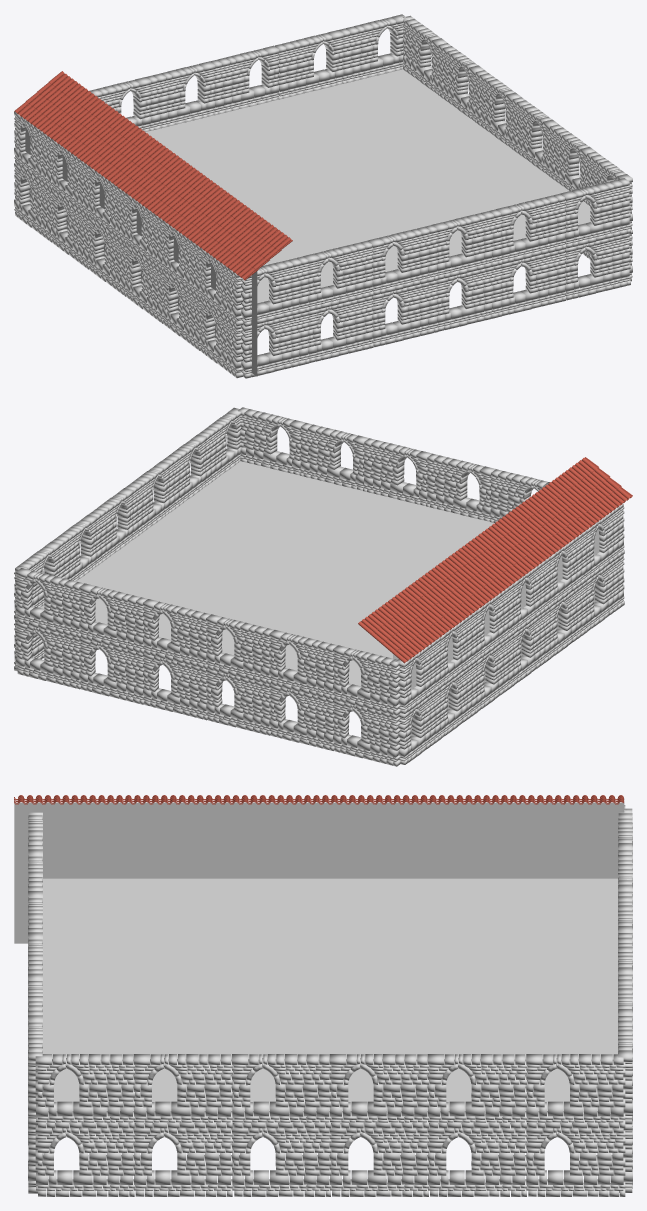
File: Classroom_BuildingAcross.fbx
The picture shows the model from 3 angles, top to bottom: view 1: azimuth 30°, elevation 25°; view 2: azimuth 150°, elevation 25°; view 3: azimuth 270°, elevation 25°; orthographic projection. The views are drawn at different scales.
Visible parts, largest first — view 1: Castle.Floor.Mid, Castle.Wall.001, Castle.Wall, Castle.Roof, Castle.Wall.003, Castle.Wall.002, Castle.Windows, Castle.BlackOut; view 2: Castle.Floor.Mid, Castle.Wall.003, Castle.Wall, Castle.Roof, Castle.Wall.001, Castle.Wall.002, Castle.Windows; view 3: Castle.Floor.Mid, Castle.Wall.002, Castle.BlackOut, Castle.Wall.003, Castle.Wall.001, Castle.Roof.
Boxes of the visible parts, x1,y1,x2,y2 form: Castle.Floor.Mid: (145,69,590,303); Castle.Wall.001: (241,178,630,378); Castle.Wall: (14,111,243,378); Castle.Roof: (14,71,292,280); Castle.Wall.003: (89,14,407,131); Castle.Wall.002: (402,15,632,281); Castle.Windows: (25,128,216,290); Castle.BlackOut: (29,187,257,376); Castle.Floor.Mid: (40,461,494,685); Castle.Wall.003: (16,568,400,766); Castle.Wall: (395,503,624,764); Castle.Roof: (358,457,632,663); Castle.Wall.001: (238,407,549,522); Castle.Wall.002: (14,407,240,671); Castle.Windows: (411,529,599,689); Castle.Floor.Mid: (43,878,617,1121); Castle.Wall.002: (35,1054,625,1196); Castle.BlackOut: (14,802,624,943); Castle.Wall.003: (618,808,632,1192); Castle.Wall.001: (28,812,42,1193); Castle.Roof: (14,795,624,804).
Size of the model in its own units: 17.91 by 5.76 by 18.3.
